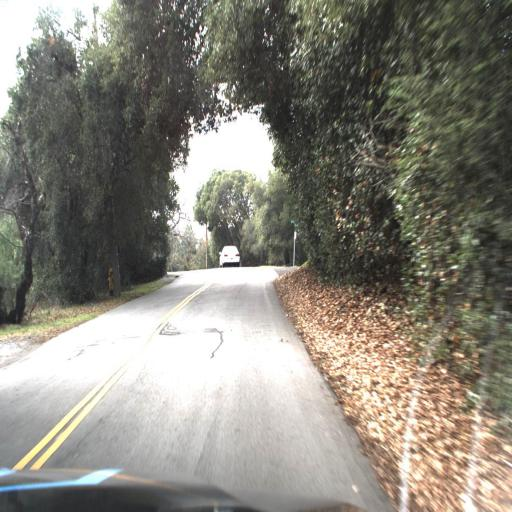car: (215, 234, 244, 277)
